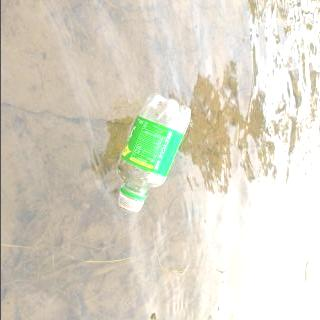bottle: (114, 91, 192, 213)
